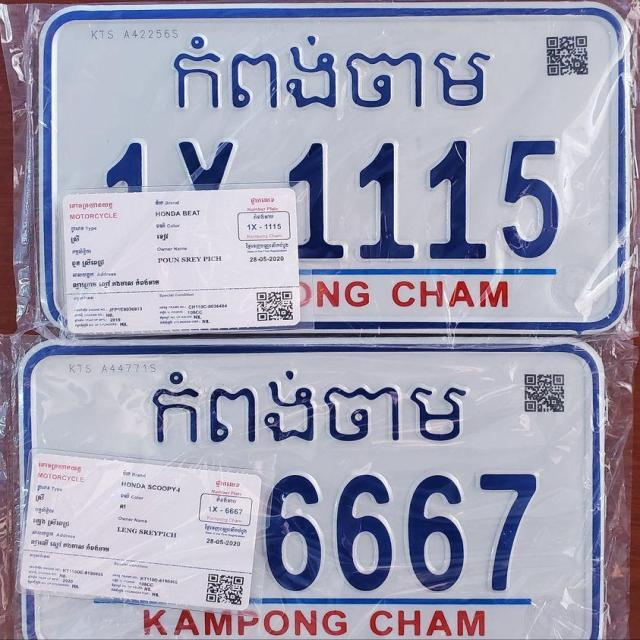Kampong_Cham: (176, 34, 492, 123), (152, 370, 466, 450)
